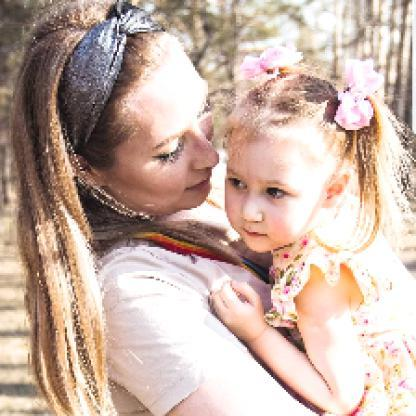child: (209, 68, 415, 416)
